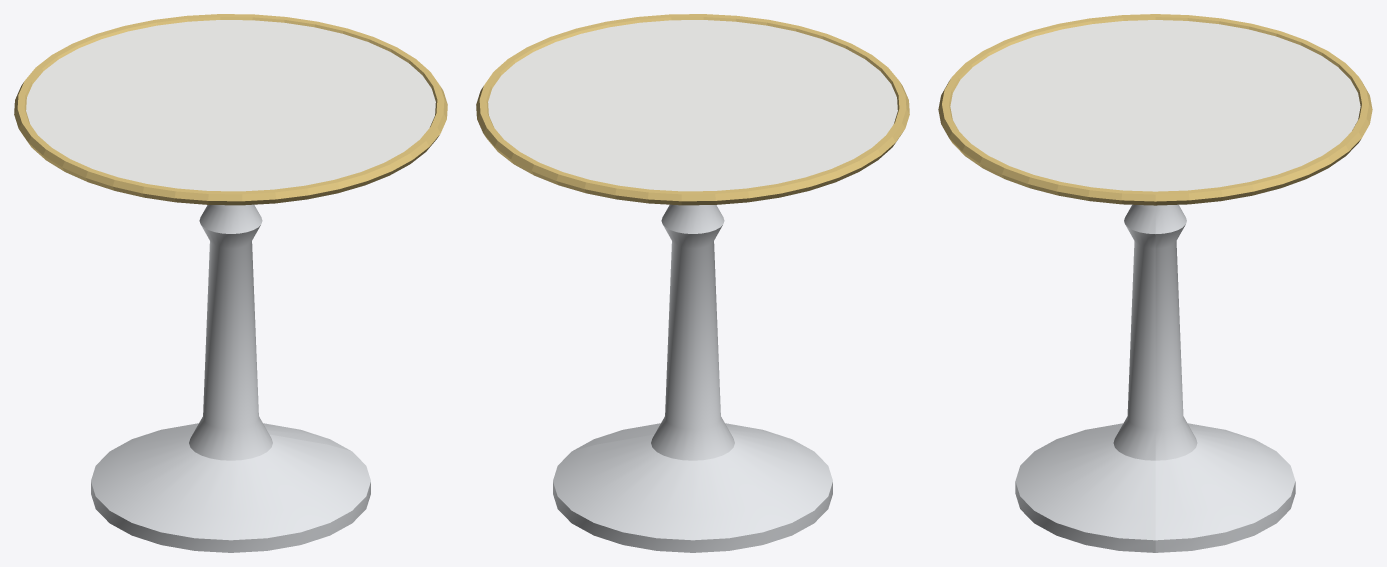
The model's file is wedding-and-chapel-kit-cake-stand-98a972b6__39397.glb.
3 views of the same model, side by side, from view 1: azimuth 30°, elevation 25°; view 2: azimuth 150°, elevation 25°; view 3: azimuth 270°, elevation 25° (orthographic).
Parts seen in each view (by area): view 1: cake-stand; view 2: cake-stand; view 3: cake-stand.
Part boxes in pixels (x1=…): cake-stand: x1=14, y1=14, x2=447, y2=552; cake-stand: x1=476, y1=14, x2=909, y2=552; cake-stand: x1=938, y1=14, x2=1372, y2=552.
Bounding box in the file's own units: 0.62 × 0.6137 × 0.62.
